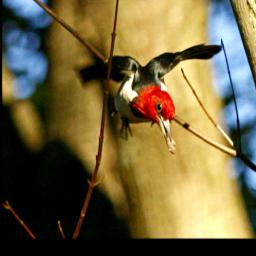Woodpecker: (76, 34, 230, 157)
